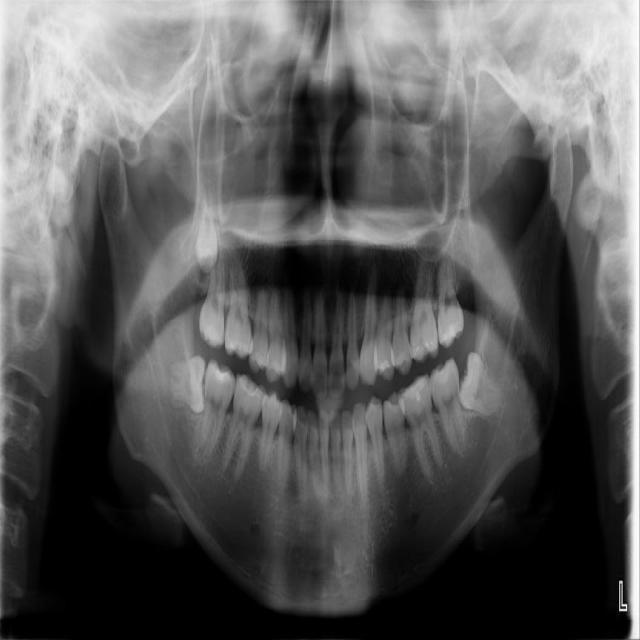3M ESPE Implant: (192, 184, 219, 274)
52: (388, 370, 446, 426), (219, 368, 275, 424), (197, 357, 241, 416)
73: (626, 618, 633, 622)
BioHorizons Implant: (437, 243, 464, 348)
Biomet 3i Implant: (451, 350, 519, 421)
Blue Sky Bio Implant: (425, 356, 469, 456)
Caries: (198, 244, 228, 350)
Implant: (199, 358, 237, 460)
Keystone Dental Implant: (169, 355, 206, 413)
